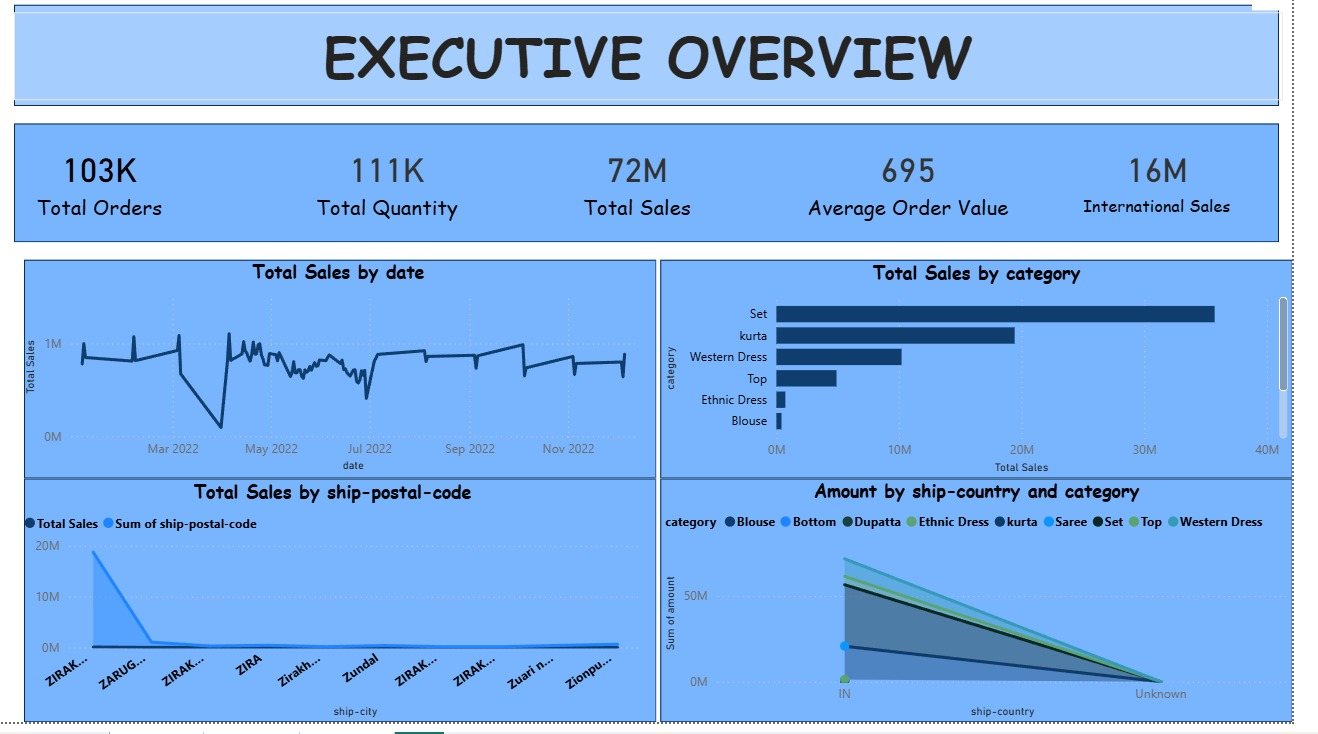

What the dashboard file says about the page in this screenshot:
{"tool":"powerbi","page":{"name":"Page 1","canvas":[1280,720],"ordinal":0},"visuals":[{"type":"shape","box":[29,18.1,1237.5,99],"z":0,"group":"g1"},{"type":"group","id":"g1","title":"Back 1","box":[29,18.1,1251.1,702.1],"z":0},{"type":"textbox","box":[29,25.3,1241.4,85.7],"z":1000},{"type":"shape","box":[38.8,267.6,618.8,214],"z":1000,"group":"g1"},{"type":"shape","box":[29,134.3,1237.5,116.2],"z":2000,"group":"g1"},{"type":"lineChart","fields":{"Category":["amazon_sales_sql_ready.date.Variation.Date Hierarchy.Year"],"Y":["amazon_sales_sql_ready.Total Sales"]},"box":[35.5,266.6,622.4,214],"z":2000},{"type":"barChart","fields":{"Category":["amazon_sales_sql_ready.category"],"Y":["amazon_sales_sql_ready.Total Sales"]},"box":[661.6,267.8,618.8,214],"z":3000},{"type":"shape","box":[38.8,481.6,618.8,238.5],"z":3000,"group":"g1"},{"type":"advanceCardE03760C5AB684758B56AA29F9E6C257B","fields":{"mainMeasure":["amazon_sales_sql_ready.Total Orders"],"tooltipMeasures":["amazon_sales_sql_ready.Total Quantity","amazon_sales_sql_ready.Total Sales","amazon_sales_sql_ready.Average Order Value","international_sales_cleaned.International Sales"]},"box":[0,116.2,226.2,151.6],"z":4000},{"type":"shape","box":[661.2,267.6,618.8,214],"z":4000,"group":"g1"},{"type":"shape","box":[661.2,481.6,618.8,238.5],"z":5000,"group":"g1"},{"type":"stackedAreaChart","title":"Amount by ship-country and category","fields":{"Category":["amazon_sales_sql_ready.ship-country"],"Y":["Sum(amazon_sales_sql_ready.amount)"],"Series":["amazon_sales_sql_ready.category"]},"box":[661.1,480.2,618.9,240.1],"z":5000},{"type":"areaChart","title":"Total Sales by ship-postal-code","fields":{"Category":["amazon_sales_sql_ready.ship-city"],"Y":["amazon_sales_sql_ready.Total Sales","Sum(amazon_sales_sql_ready.ship-postal-code)"]},"box":[34.8,481.4,613.6,239.3],"z":6000},{"type":"advanceCardE03760C5AB684758B56AA29F9E6C257B","fields":{"tooltipMeasures":["amazon_sales_sql_ready.Total Sales","amazon_sales_sql_ready.Average Order Value","international_sales_cleaned.International Sales"],"mainMeasure":["amazon_sales_sql_ready.Total Quantity"]},"box":[281.3,116.2,226.2,151.6],"z":7000},{"type":"advanceCardE03760C5AB684758B56AA29F9E6C257B","fields":{"tooltipMeasures":["amazon_sales_sql_ready.Average Order Value","international_sales_cleaned.International Sales"],"mainMeasure":["amazon_sales_sql_ready.Total Sales"]},"box":[525.8,116.2,226.2,151.6],"z":8000},{"type":"advanceCardE03760C5AB684758B56AA29F9E6C257B","fields":{"tooltipMeasures":["international_sales_cleaned.International Sales"],"mainMeasure":["amazon_sales_sql_ready.Average Order Value"]},"box":[791.2,116.2,226.2,151.6],"z":9000},{"type":"advanceCardE03760C5AB684758B56AA29F9E6C257B","fields":{"mainMeasure":["international_sales_cleaned.International Sales"]},"box":[1034.5,116.2,226.2,151.6],"z":10000}]}

Visuals, with their boxes in screenshot pixels (x1, y1, x2, y2), scaled from the page's 1280x720 canvas onto the 1318x734 screenshot:
shape: x1=30, y1=18, x2=1304, y2=119
"Back 1" group: x1=30, y1=18, x2=1317, y2=733
textbox: x1=30, y1=26, x2=1308, y2=113
shape: x1=40, y1=273, x2=677, y2=491
shape: x1=30, y1=137, x2=1304, y2=255
lineChart - amazon_sales_sql_ready.date.Variation.Date Hierarchy.Year x amazon_sales_sql_ready.Total Sales: x1=37, y1=272, x2=677, y2=490
barChart - amazon_sales_sql_ready.category x amazon_sales_sql_ready.Total Sales: x1=681, y1=273, x2=1317, y2=491
shape: x1=40, y1=491, x2=677, y2=733
advanceCardE03760C5AB684758B56AA29F9E6C257B - amazon_sales_sql_ready.Total Orders x amazon_sales_sql_ready.Total Quantity: x1=0, y1=118, x2=233, y2=273
shape: x1=681, y1=273, x2=1317, y2=491
shape: x1=681, y1=491, x2=1317, y2=733
"Amount by ship-country and category" stackedAreaChart: x1=681, y1=490, x2=1317, y2=733
"Total Sales by ship-postal-code" areaChart: x1=36, y1=491, x2=668, y2=733
advanceCardE03760C5AB684758B56AA29F9E6C257B - amazon_sales_sql_ready.Total Sales x amazon_sales_sql_ready.Average Order Value: x1=290, y1=118, x2=523, y2=273
advanceCardE03760C5AB684758B56AA29F9E6C257B - amazon_sales_sql_ready.Average Order Value x international_sales_cleaned.International Sales: x1=541, y1=118, x2=774, y2=273
advanceCardE03760C5AB684758B56AA29F9E6C257B - international_sales_cleaned.International Sales x amazon_sales_sql_ready.Average Order Value: x1=815, y1=118, x2=1048, y2=273
advanceCardE03760C5AB684758B56AA29F9E6C257B - international_sales_cleaned.International Sales: x1=1065, y1=118, x2=1298, y2=273
